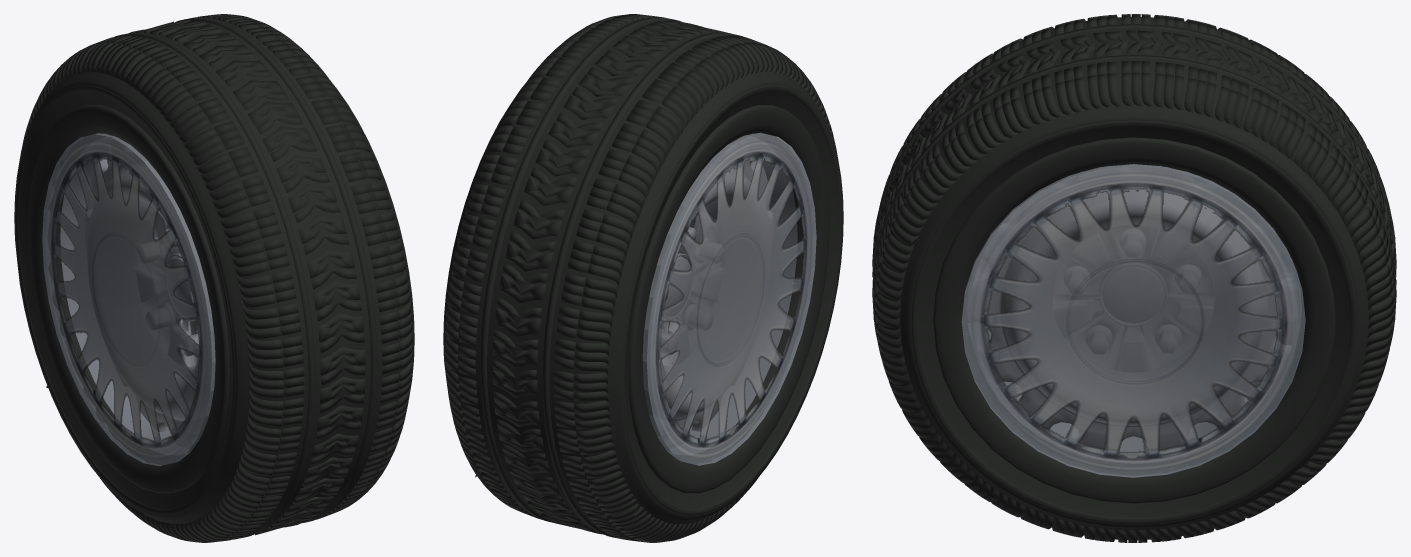
Rendered from r19_wheel.obj.
3 views of the same model, side by side, from view 1: azimuth 30°, elevation 25°; view 2: azimuth 150°, elevation 25°; view 3: azimuth 270°, elevation 25° (orthographic).
Parts seen in each view (by area): view 1: 19; view 2: 19; view 3: 19.
Part boxes in pixels (box(x1,y1,x2,y2)): 19: box(14, 14, 414, 542); 19: box(443, 14, 843, 542); 19: box(872, 14, 1396, 542).
Size of the model in its own units: 0.7968 by 2 by 2.
Materials: 2 (2 with a texture image).
